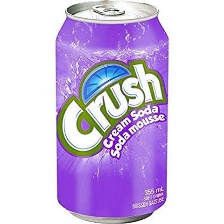can: (53, 1, 173, 224)
